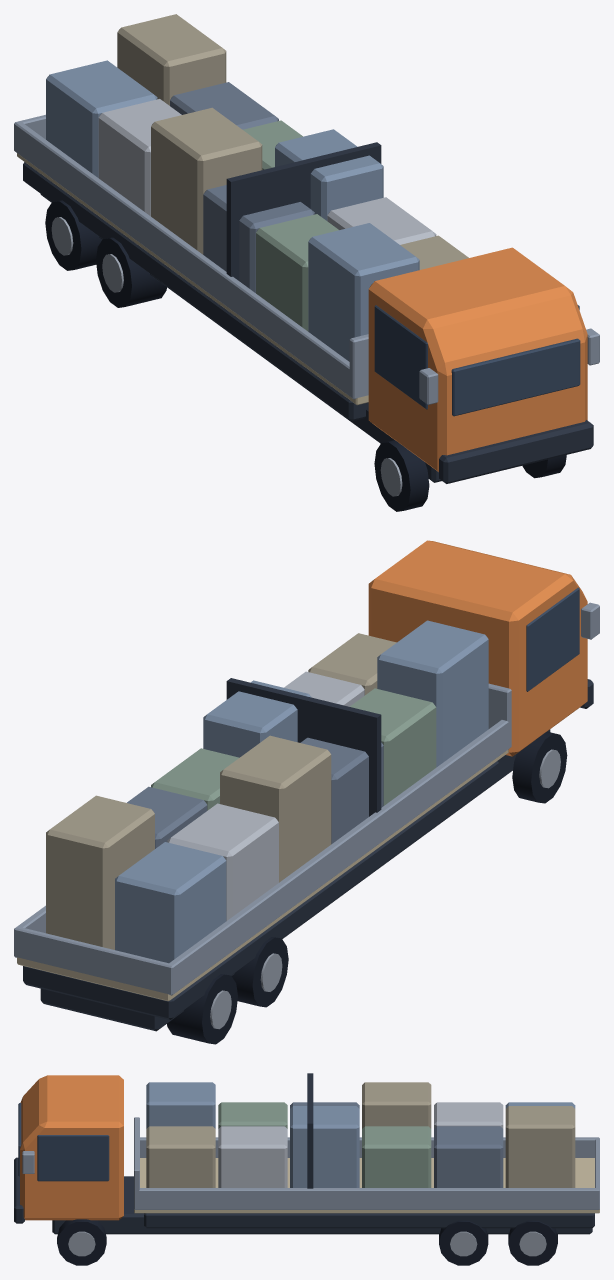
Rendered from truck_10t_loaded.glb.
3 views of the same model, one above another, from view 1: azimuth 30°, elevation 25°; view 2: azimuth 150°, elevation 25°; view 3: azimuth 270°, elevation 25° (orthographic). The views are drawn at different scales.
Parts seen in each view (by area): view 1: truck_10t_loaded; view 2: truck_10t_loaded; view 3: truck_10t_loaded.
Boxes of the visible parts, x1,y1,x2,y2 form: truck_10t_loaded: [14, 14, 599, 511]; truck_10t_loaded: [14, 540, 599, 1044]; truck_10t_loaded: [14, 1073, 599, 1265].
Bounding box in the file's own units: 2.76 × 3.14 × 11.82.
